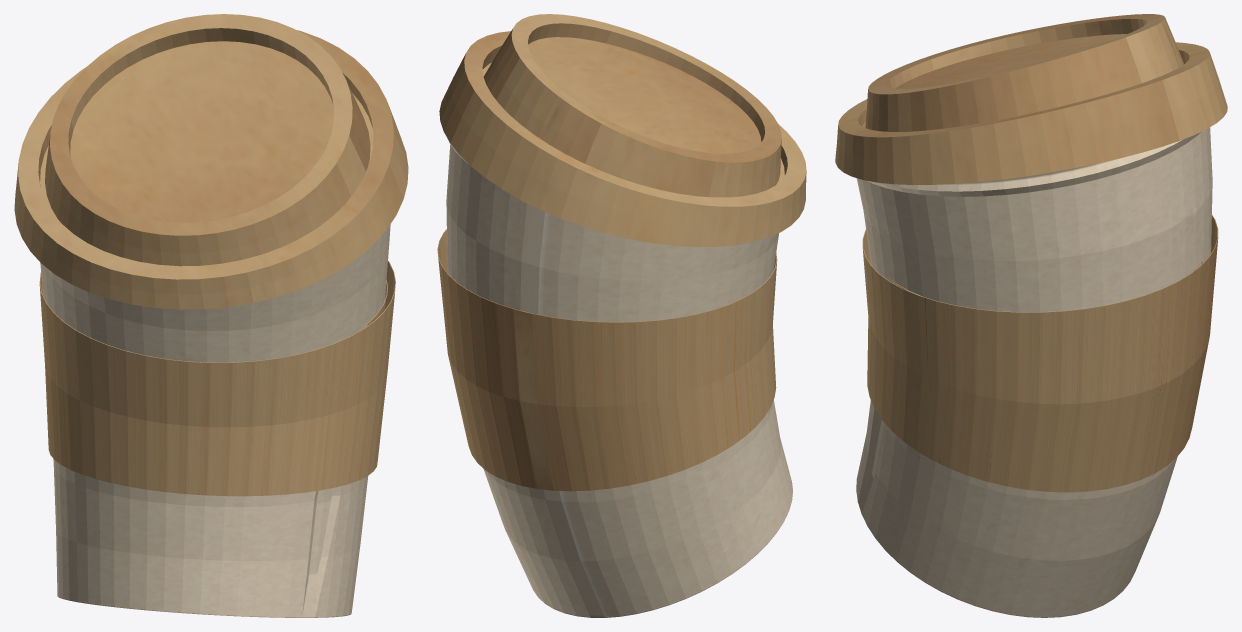
File: bend_medium_1.obj
3 views of the same model, side by side, from view 1: azimuth 30°, elevation 25°; view 2: azimuth 150°, elevation 25°; view 3: azimuth 270°, elevation 25° (orthographic). The views are drawn at different scales.
Parts seen in each view (by area): view 1: model; view 2: model; view 3: model.
Boxes of the visible parts, x1,y1,x2,y2 form: model: (14, 14, 408, 617); model: (437, 14, 806, 617); model: (835, 14, 1227, 617).
Size of the model in its own units: 0.0706 by 0.1152 by 0.0715.
1 material, 1 textured.
